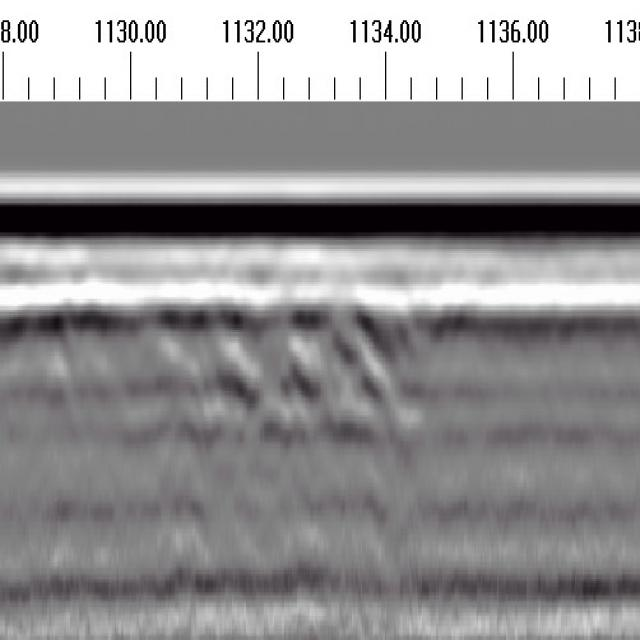loose: (93, 294, 411, 431)
